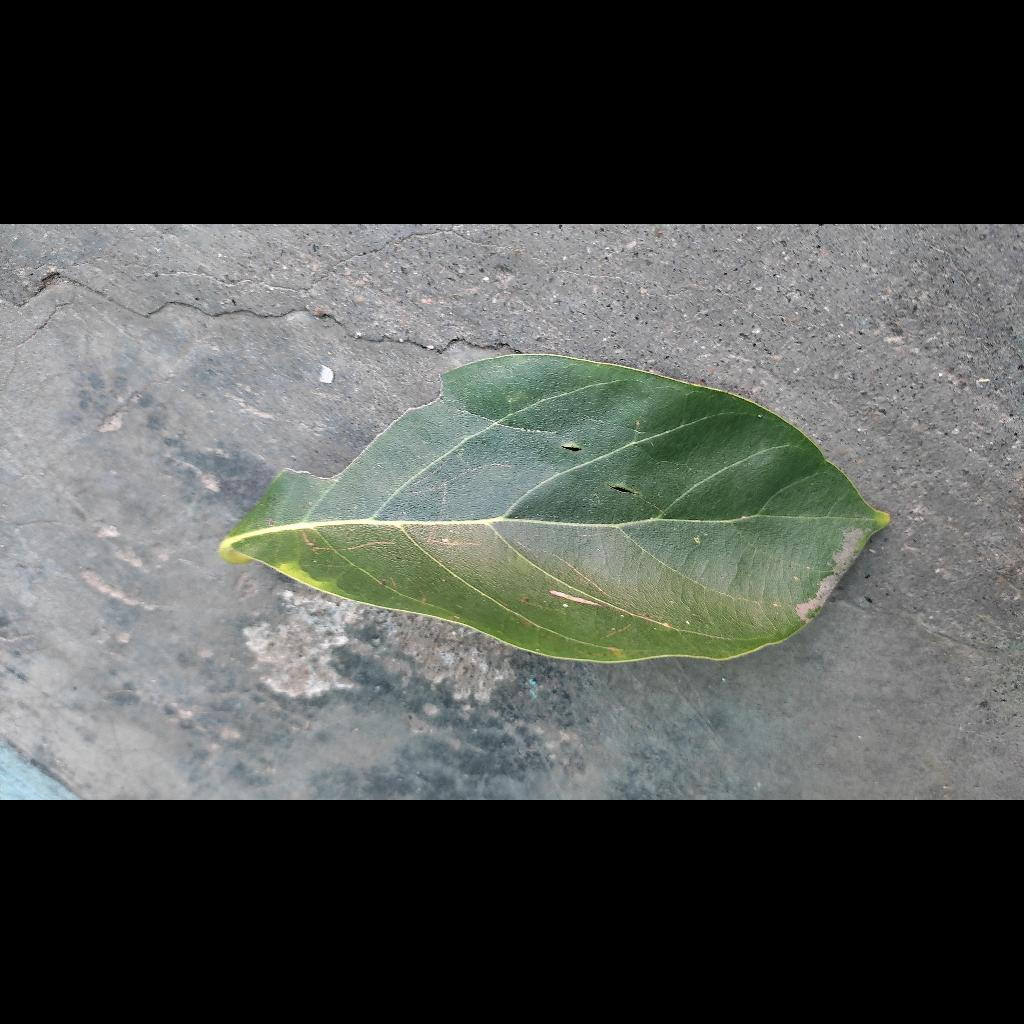hoja_sana: (135, 362, 805, 669)
